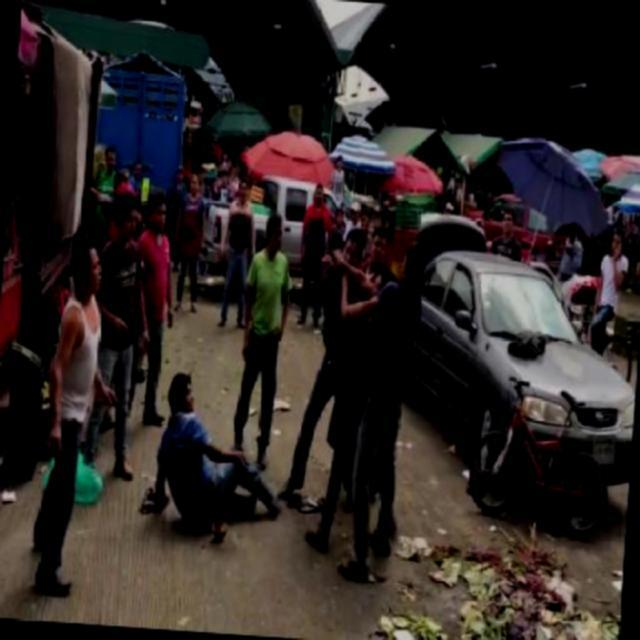fight: (304, 242, 416, 580)
non-fight: (33, 233, 115, 596), (150, 369, 288, 534), (231, 207, 294, 458)
